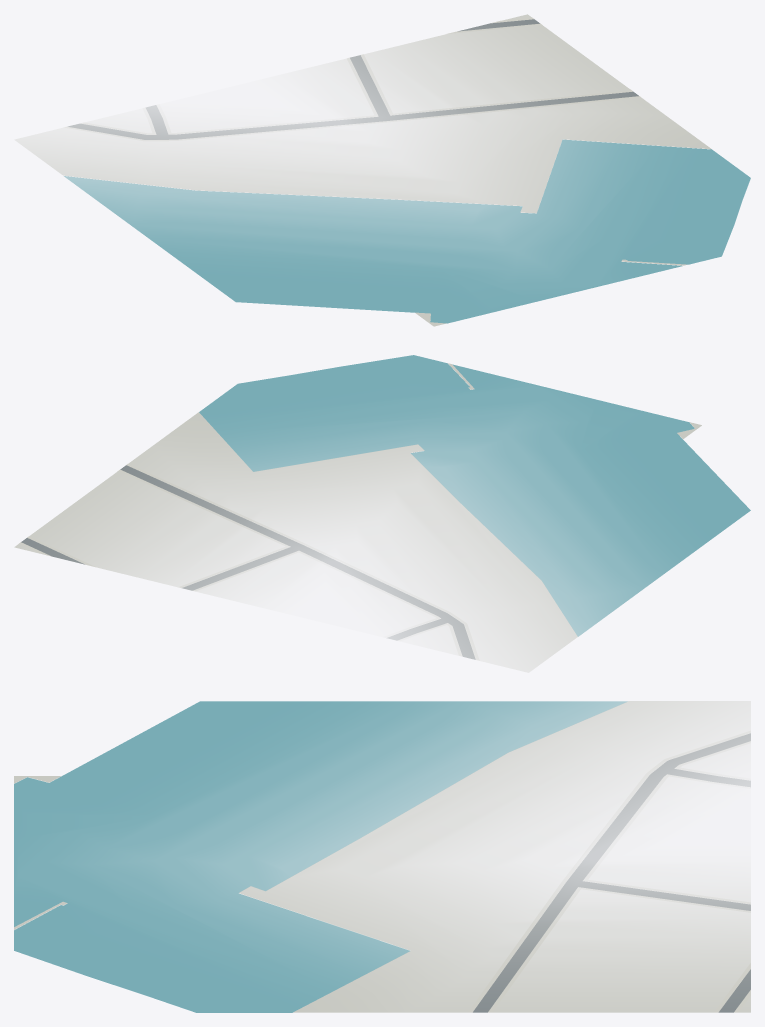
3 renders of one model, top to bottom at view 1: azimuth 30°, elevation 25°; view 2: azimuth 150°, elevation 25°; view 3: azimuth 270°, elevation 25°, orthographic. The views are drawn at different scales.
Parts seen in each view (by area): view 1: city; view 2: city; view 3: city.
Boxes of the visible parts, x1,y1,x2,y2 form: city: (15, 14, 750, 326); city: (14, 355, 750, 672); city: (14, 701, 750, 1012).
Bounding box in the file's own units: 500 × 0.4 × 500.
